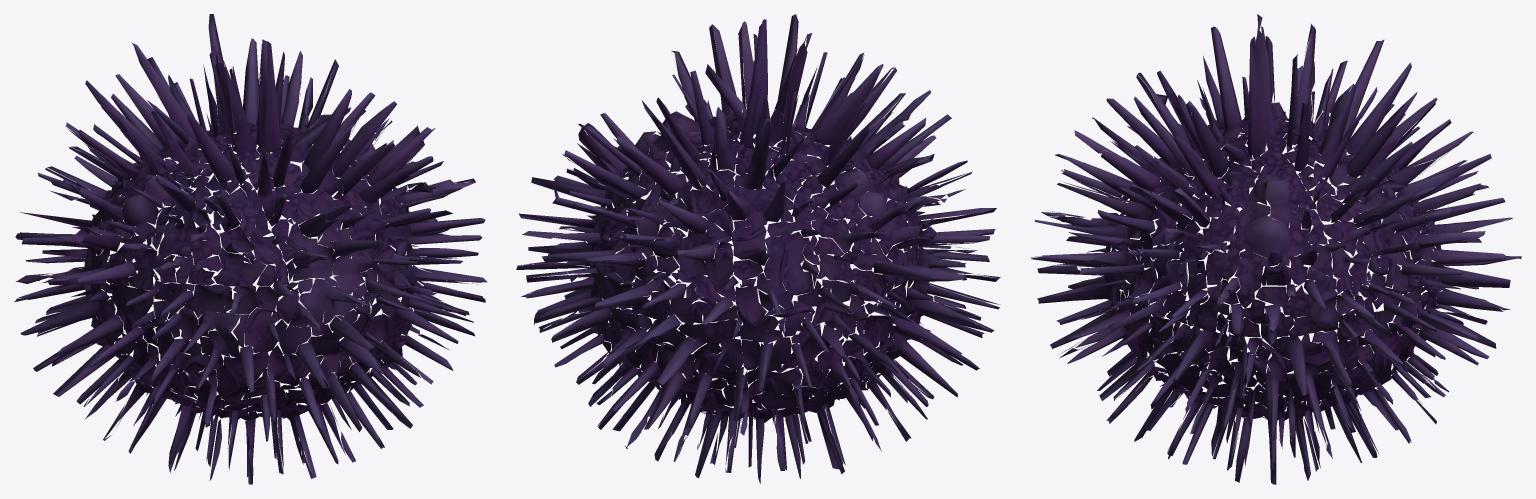
File: urchin.glb
3 views of the same model, side by side, from view 1: azimuth 30°, elevation 25°; view 2: azimuth 150°, elevation 25°; view 3: azimuth 270°, elevation 25° (orthographic). The views are drawn at different scales.
Visible parts, largest first — view 1: tripo_node_c95bcf5a-700f-45b5-91de-7dc6bd09b2c6; view 2: tripo_node_c95bcf5a-700f-45b5-91de-7dc6bd09b2c6; view 3: tripo_node_c95bcf5a-700f-45b5-91de-7dc6bd09b2c6.
Part boxes in pixels (x1,y1,x2,y2): tripo_node_c95bcf5a-700f-45b5-91de-7dc6bd09b2c6: (14, 14, 487, 484); tripo_node_c95bcf5a-700f-45b5-91de-7dc6bd09b2c6: (516, 14, 1000, 483); tripo_node_c95bcf5a-700f-45b5-91de-7dc6bd09b2c6: (1030, 14, 1521, 484).
Size of the model in its own units: 1 by 0.9419 by 0.9995.
Materials: 1 (1 with a texture image).
